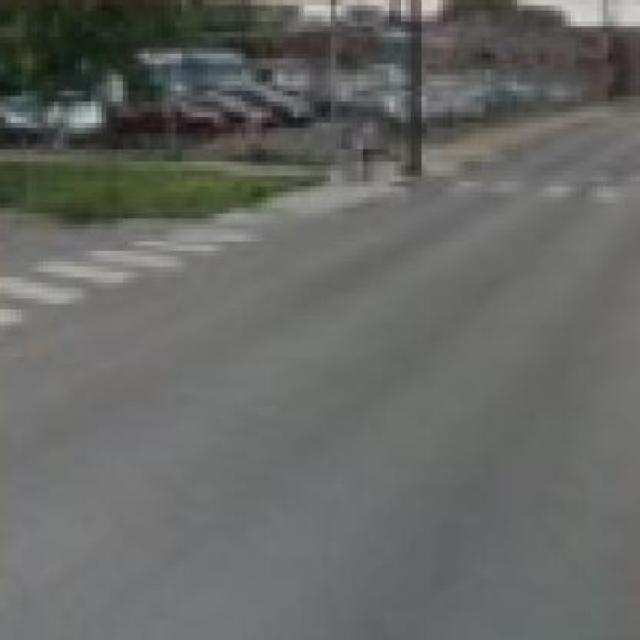crosswalk: (0, 207, 300, 340), (435, 164, 640, 205)
